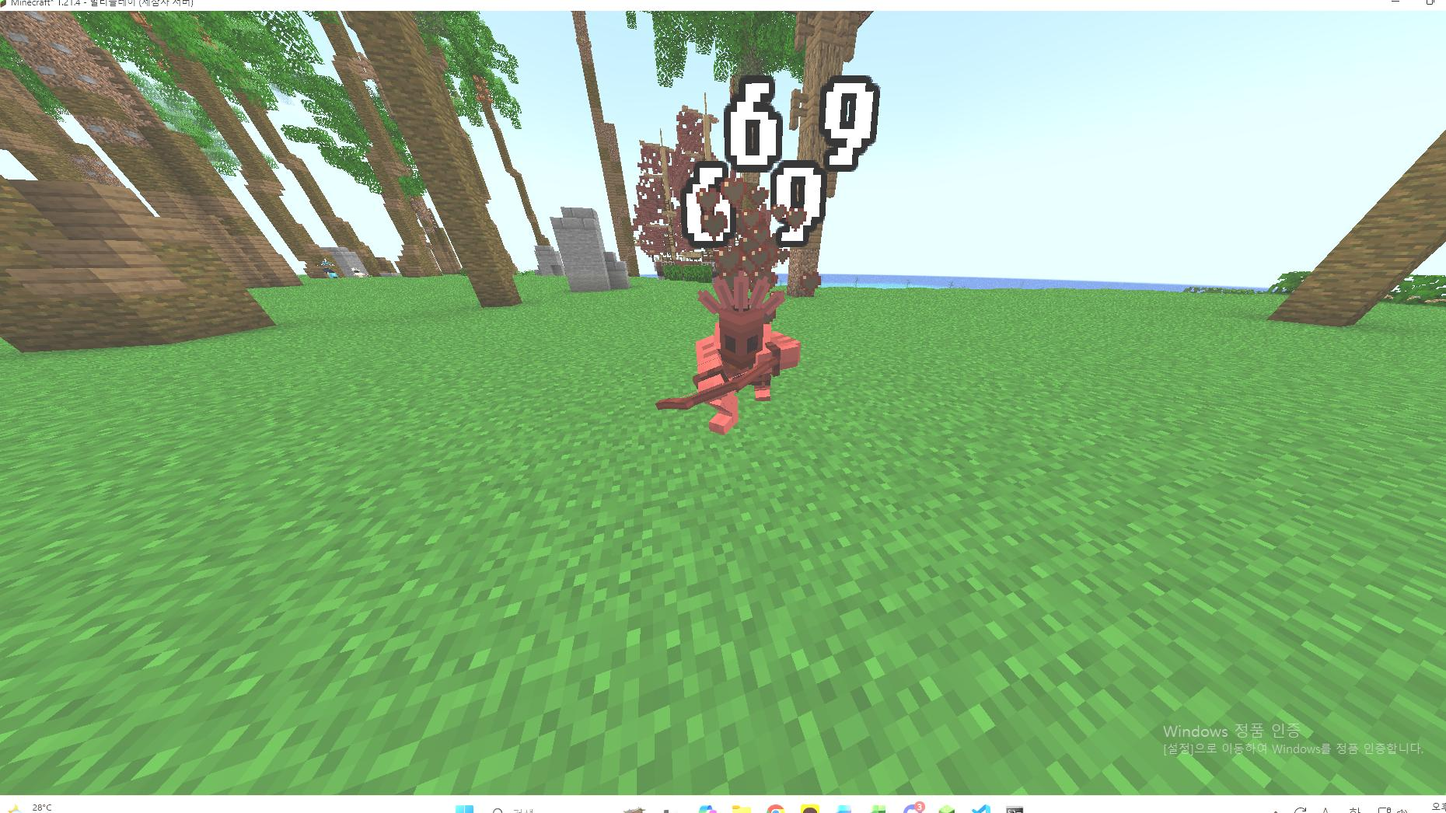bow_indian: (629, 247, 846, 442)
